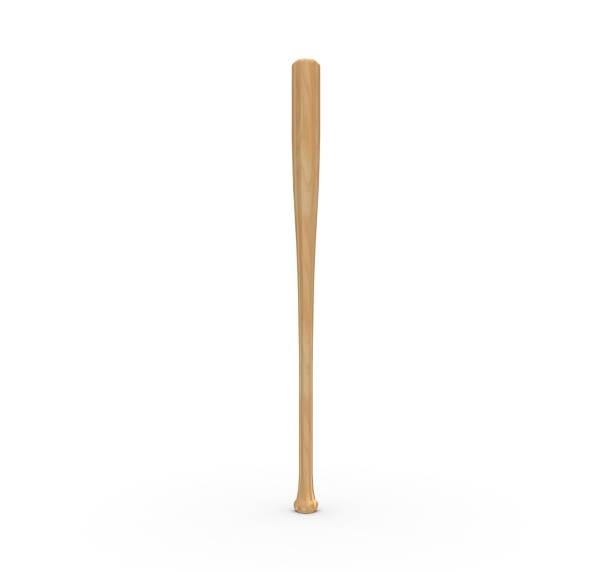bita: (291, 54, 327, 512)
